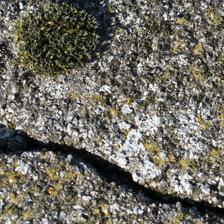Crack: (3, 64, 218, 154)
